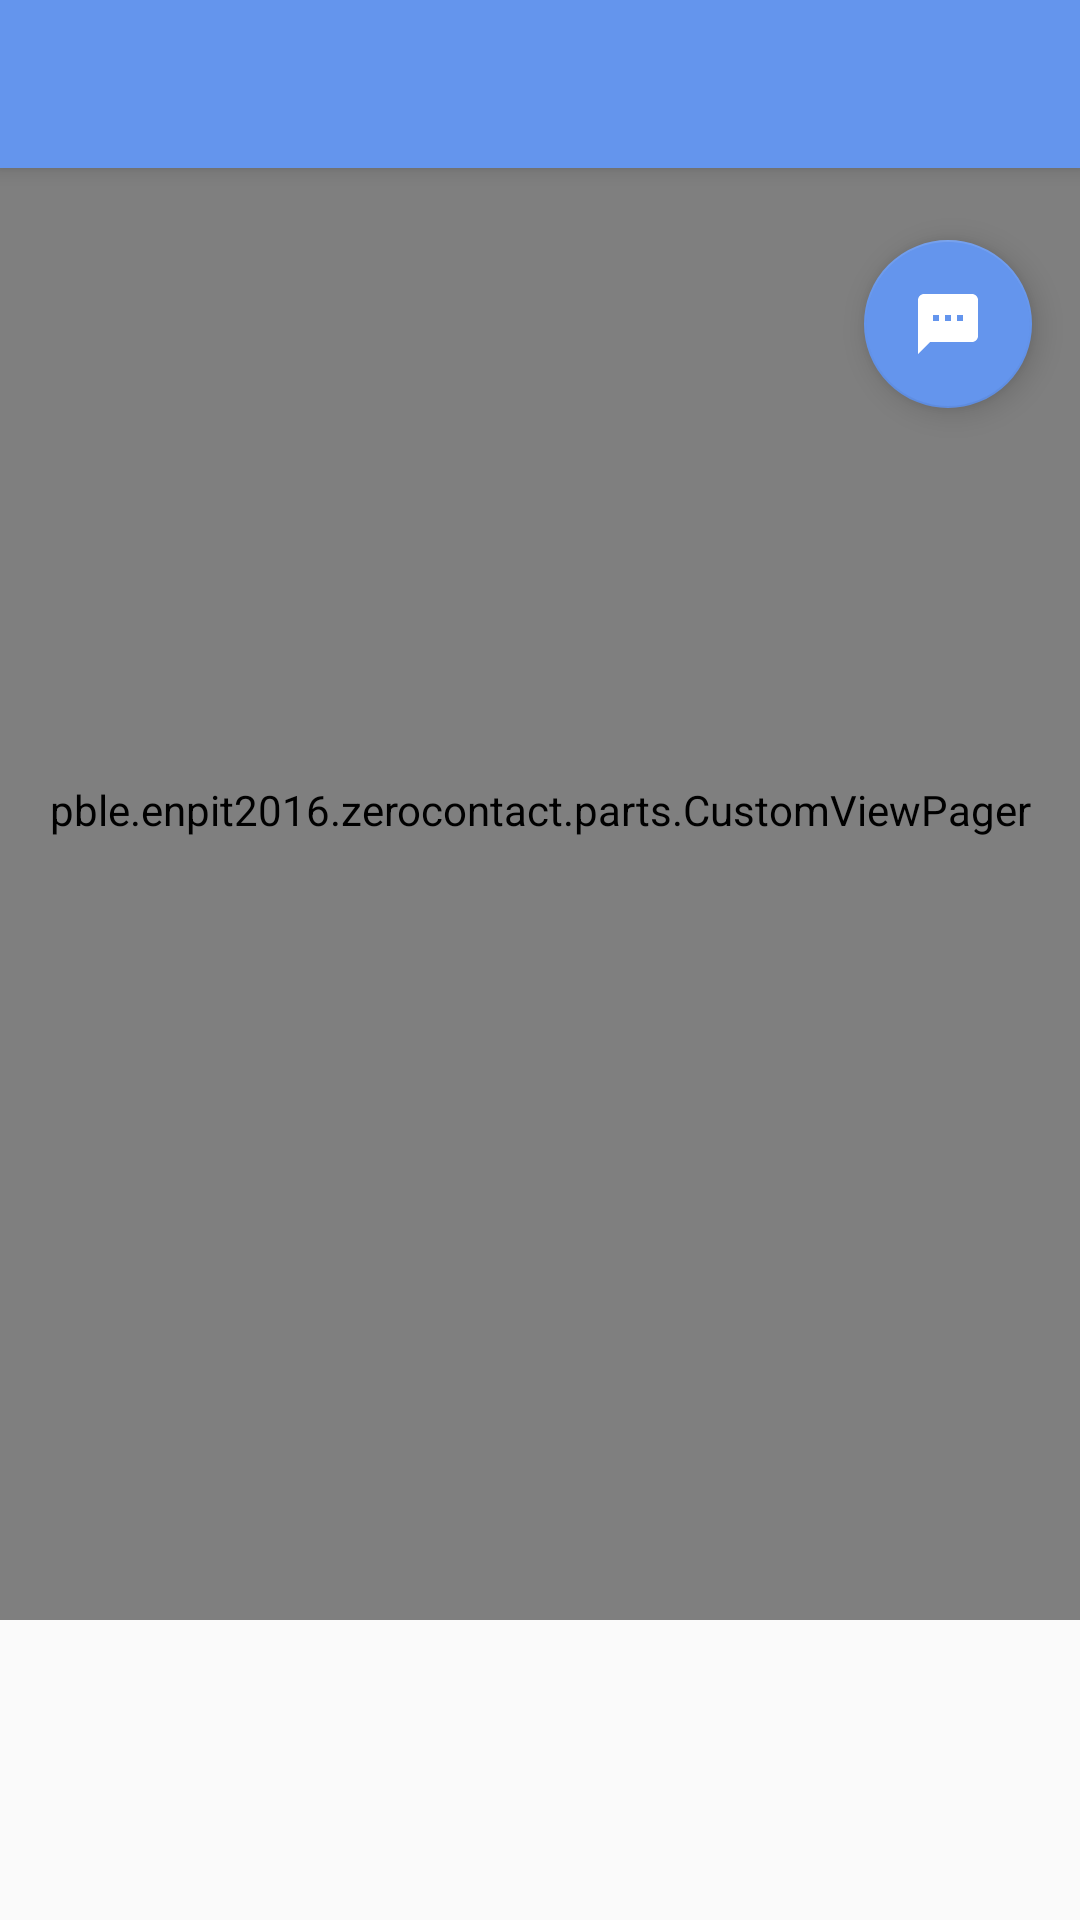

Locate icon controls on the screen. Image size 1080px×1920px, boxes as [x1, y1, x2, y2].
textsms: [864, 240, 1032, 408]
